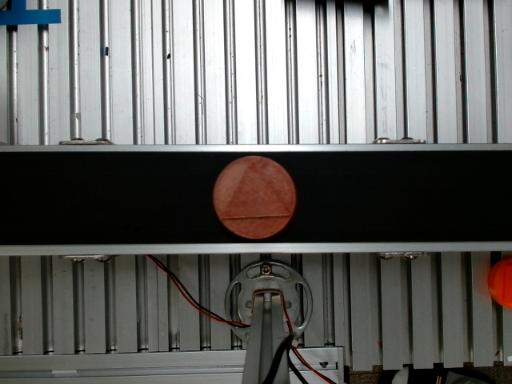Brown_Waper: (213, 156, 296, 239)
Not_Square: (219, 156, 293, 219)
